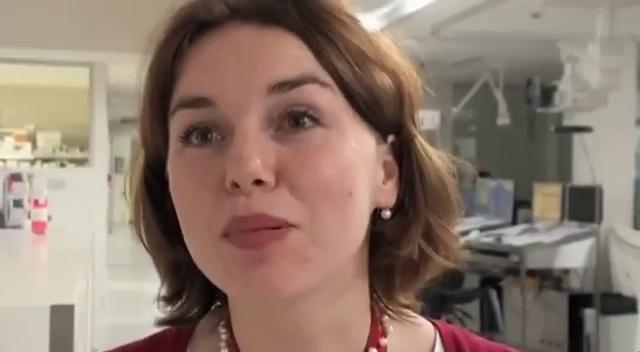others: (107, 0, 518, 352)
